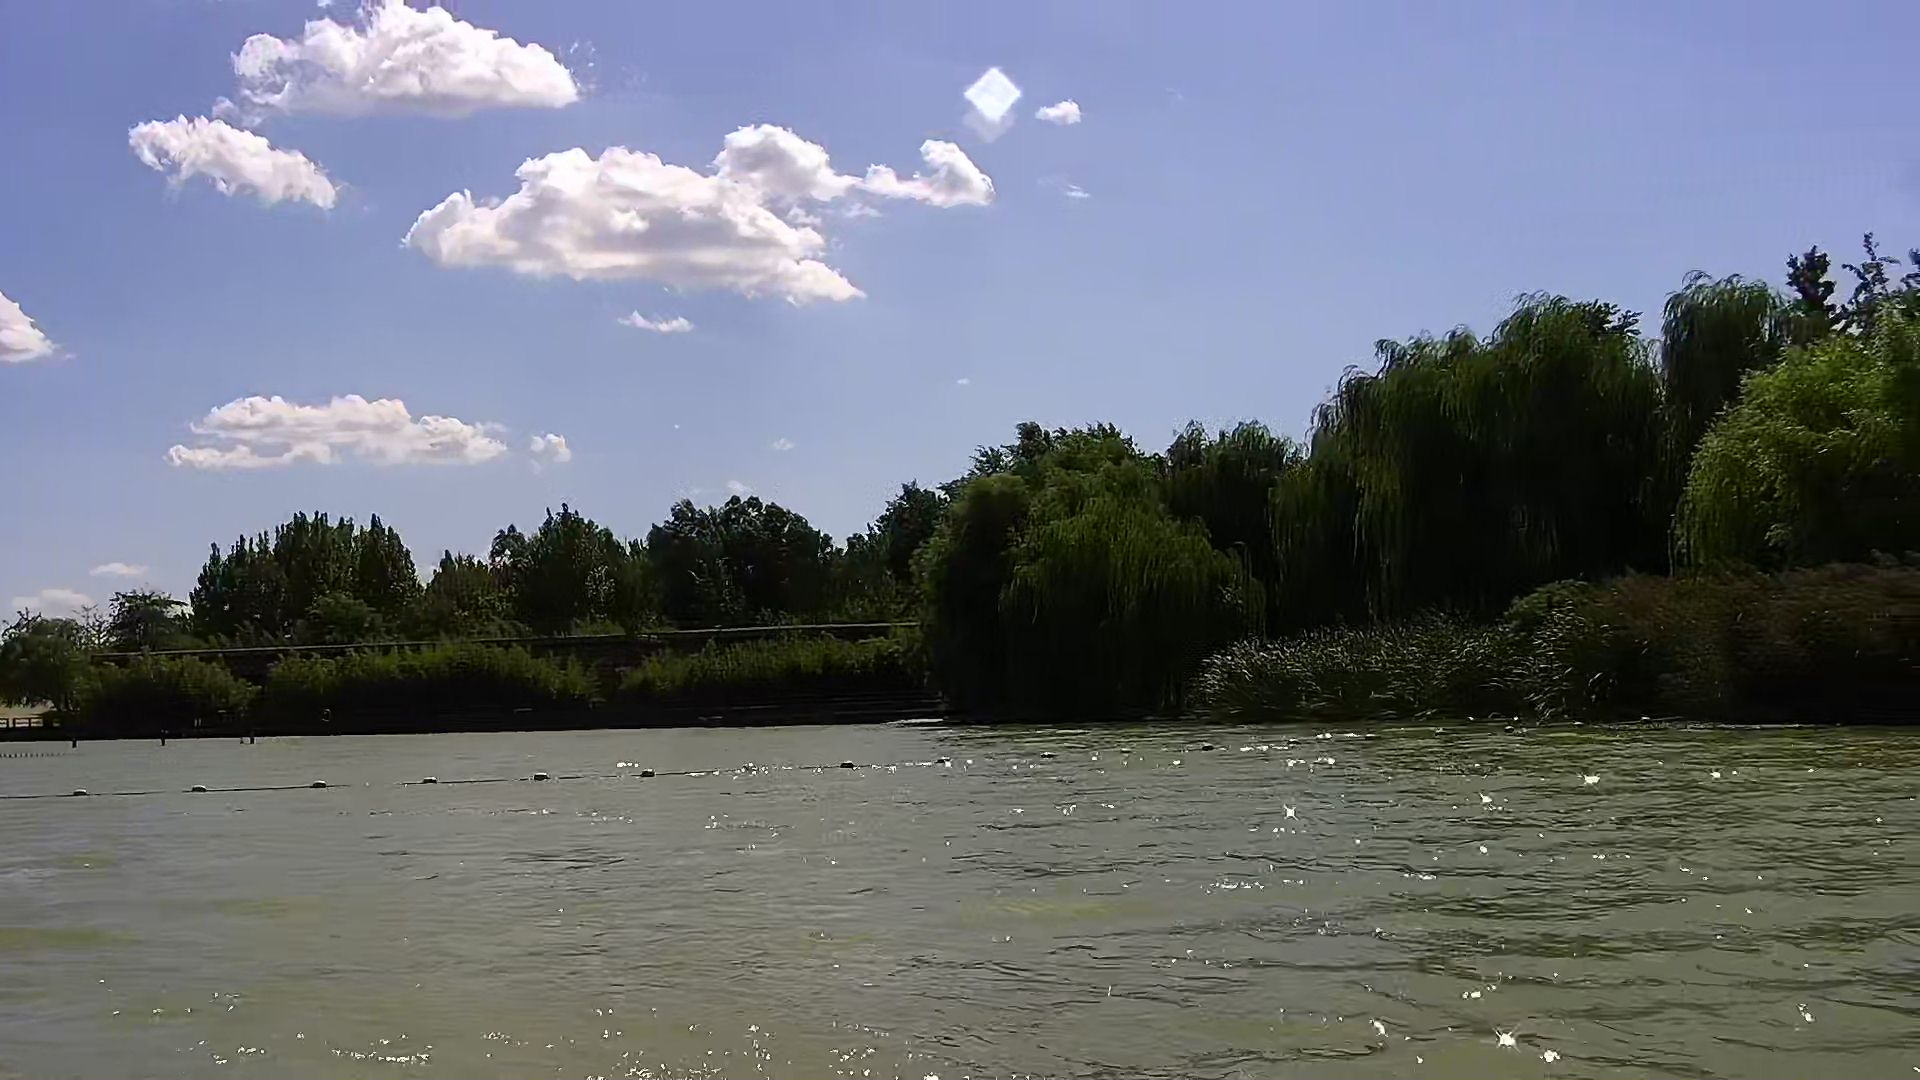ball: (829, 750, 866, 775), (185, 773, 218, 800), (632, 762, 669, 786), (527, 764, 559, 791), (301, 771, 338, 791), (73, 785, 92, 802)
